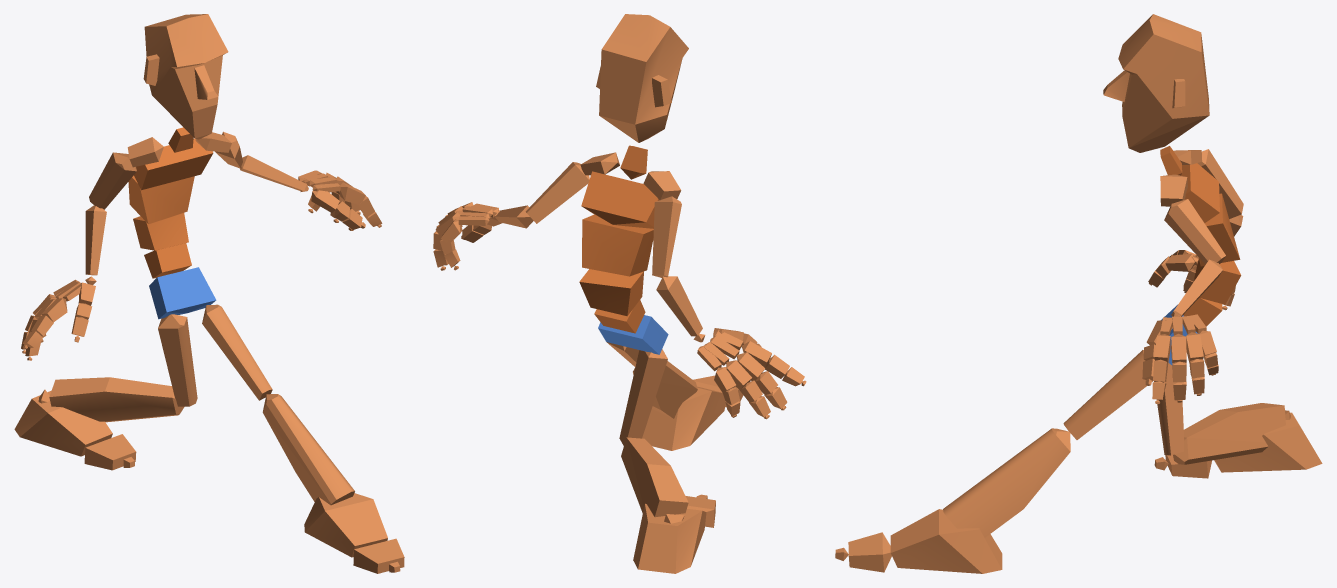
3 views of the same model, side by side, from view 1: azimuth 30°, elevation 25°; view 2: azimuth 150°, elevation 25°; view 3: azimuth 270°, elevation 25° (orthographic). The views are drawn at different scales.
Visible parts, largest first — view 1: BOPED_Head, BOPED_R_leg, BOPED_L_leg, BOPED_R_foot01, BOPED_R_foot, BOPED_R_legup, Bone01, BOPED_L_legup, Bone04, Bone05, Bone03, BOPED_R_arm_upper (+7 smaller); view 2: BOPED_Head, BOPED_R_foot, Bone04, BOPED_R_leg, Bone05, BOPED_R_foot01, BOPED_R_legup, Bone03, BOPED_R_arm_upper, BOPED_L_arm_upper, Bone01, BOPED_L_leg (+7 smaller); view 3: BOPED_Head, BOPED_L_leg, BOPED_R_foot01, BOPED_R_leg, BOPED_R_foot, BOPED_L_legup, BOPED_L_arm_upper, BOPED_R_legup, Bone05, BOPED_R_foot_toe04, Bone04, BOPED_R_arm_upper (+5 smaller).
Boxes of the visible parts, x1,y1,x2,y2 form: BOPED_Head: (143, 14, 228, 139); BOPED_R_leg: (49, 377, 184, 422); BOPED_L_leg: (262, 394, 354, 505); BOPED_R_foot01: (304, 493, 387, 557); BOPED_R_foot: (14, 390, 112, 456); BOPED_R_legup: (158, 314, 197, 406); Bone01: (149, 267, 216, 319); BOPED_L_legup: (202, 304, 272, 400); Bone04: (128, 175, 194, 224); Bone05: (134, 138, 213, 190); Bone03: (133, 213, 188, 250); BOPED_R_arm_upper: (89, 152, 136, 209); BOPED_Head: (596, 14, 688, 142); BOPED_R_foot: (633, 503, 706, 573); Bone04: (582, 214, 653, 276); BOPED_R_leg: (621, 437, 688, 517); Bone05: (581, 171, 659, 228); BOPED_R_foot01: (642, 386, 725, 450); BOPED_R_legup: (619, 349, 667, 445); Bone03: (579, 269, 643, 316); BOPED_R_arm_upper: (652, 196, 681, 277); BOPED_L_arm_upper: (525, 162, 589, 223); Bone01: (598, 315, 668, 354); BOPED_L_leg: (633, 361, 697, 418); BOPED_Head: (1103, 14, 1209, 152); BOPED_L_leg: (943, 428, 1070, 537); BOPED_R_foot01: (890, 509, 1002, 573); BOPED_R_leg: (1173, 403, 1285, 464); BOPED_R_foot: (1214, 412, 1322, 472); BOPED_L_legup: (1063, 350, 1152, 439); BOPED_L_arm_upper: (1164, 199, 1225, 264); BOPED_R_legup: (1154, 363, 1184, 455); Bone05: (1181, 163, 1219, 223); BOPED_R_foot_toe04: (848, 532, 891, 572); Bone04: (1199, 193, 1240, 266); BOPED_R_arm_upper: (1197, 149, 1243, 219).
Bounding box in the file's own units: 130 × 166 × 144.
